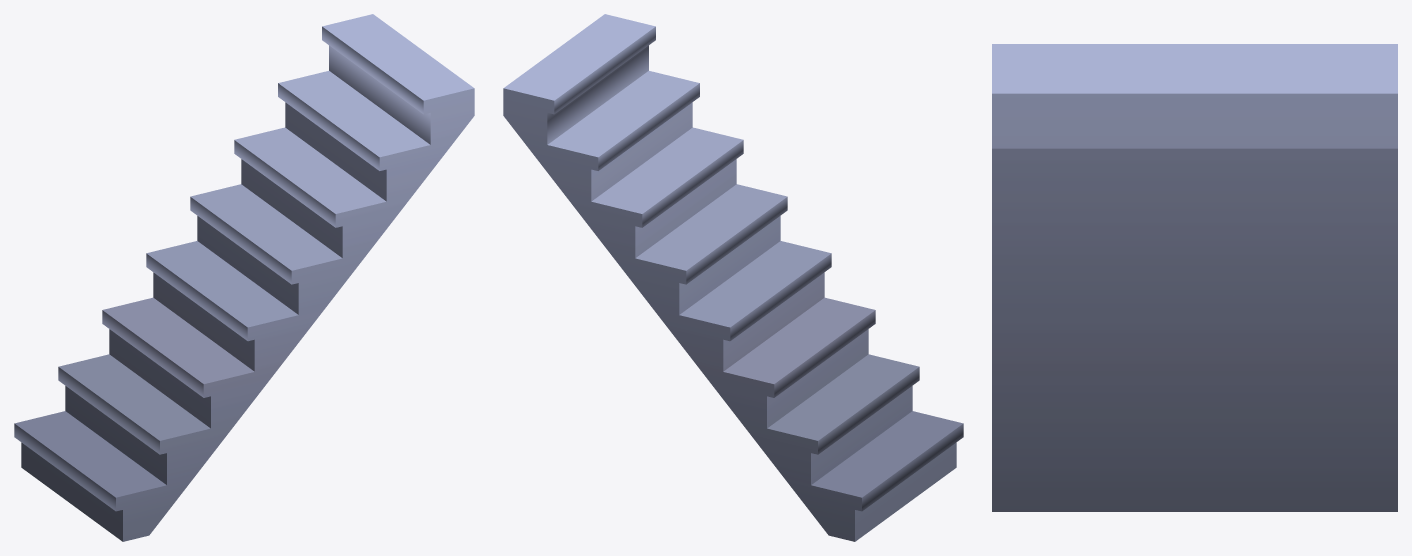
File: stentrappa.glb
3 renders of one model, left to right at view 1: azimuth 30°, elevation 25°; view 2: azimuth 150°, elevation 25°; view 3: azimuth 270°, elevation 25°, orthographic. The views are drawn at different scales.
Visible parts, largest first — view 1: stairs-stone; view 2: stairs-stone; view 3: stairs-stone.
Part boxes in pixels (x1,y1,x2,y2): stairs-stone: [14, 14, 474, 541]; stairs-stone: [503, 14, 963, 541]; stairs-stone: [992, 44, 1397, 511].
Size of the model in its own units: 1.02 by 1 by 0.5.
Materials: 1 (1 with a texture image).
